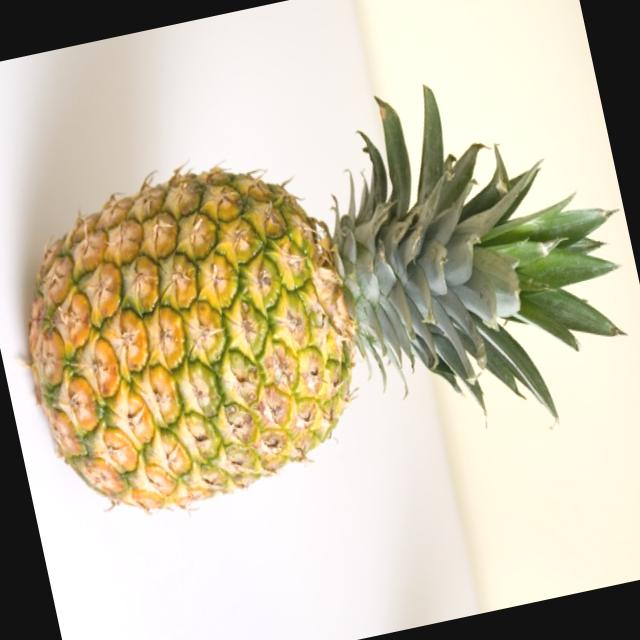pineapple: (0, 100, 444, 563)
